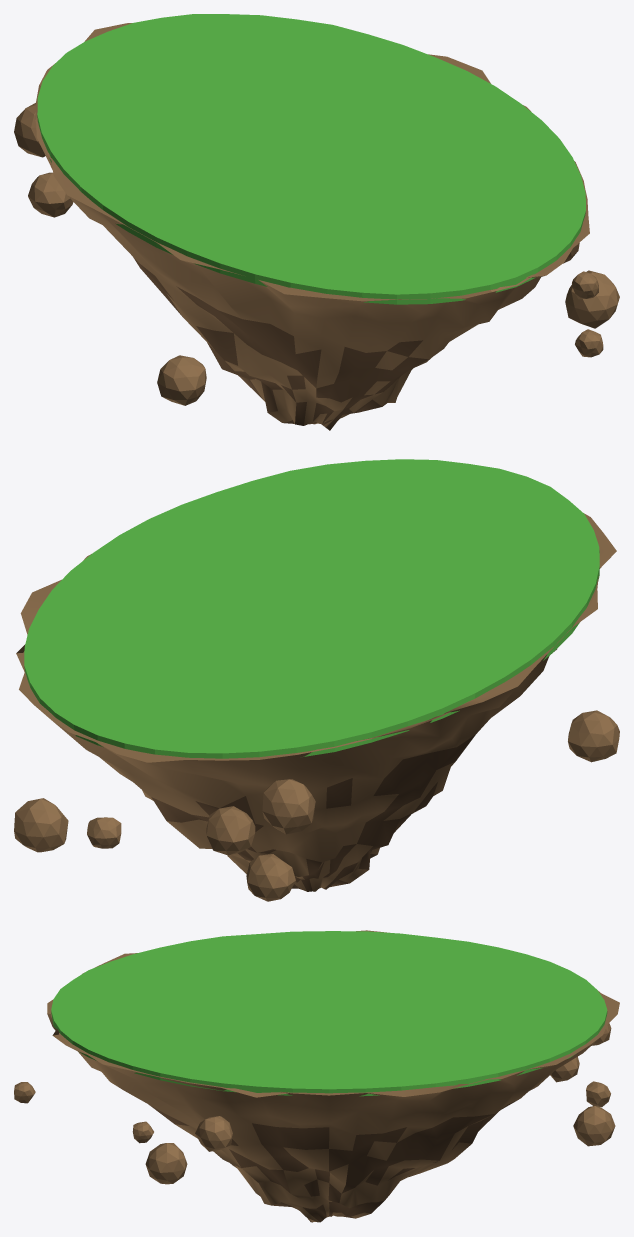
Rendered from island.glb.
The picture shows the model from 3 angles, top to bottom: view 1: azimuth 30°, elevation 25°; view 2: azimuth 150°, elevation 25°; view 3: azimuth 270°, elevation 25°; orthographic projection. The views are drawn at different scales.
Visible parts, largest first — view 1: IslandGrass, IslandRock, Floating.008, Floating.002, Floating.001, Floating.009, Floating.005, Floating.003; view 2: IslandGrass, IslandRock, Floating.009, Floating.004, Floating.008, Floating, Floating.001, Floating.006; view 3: IslandGrass, IslandRock, Floating.002, Floating.004, Floating.007, Floating.006, Floating.001.
Boxes of the visible parts, bbox=[...] form: IslandGrass: bbox=[37, 14, 585, 304]; IslandRock: bbox=[35, 23, 589, 430]; Floating.008: bbox=[157, 355, 206, 405]; Floating.002: bbox=[565, 270, 619, 328]; Floating.001: bbox=[28, 172, 73, 217]; Floating.009: bbox=[14, 103, 45, 157]; Floating.005: bbox=[575, 329, 603, 357]; Floating.003: bbox=[572, 271, 598, 299]; IslandGrass: bbox=[24, 459, 599, 758]; IslandRock: bbox=[16, 513, 616, 891]; Floating.009: bbox=[262, 779, 315, 834]; Floating.004: bbox=[14, 798, 68, 852]; Floating.008: bbox=[568, 710, 619, 762]; Floating: bbox=[206, 806, 255, 855]; Floating.001: bbox=[246, 854, 295, 901]; Floating.006: bbox=[87, 817, 121, 848]; IslandGrass: bbox=[51, 931, 607, 1096]; IslandRock: bbox=[47, 930, 619, 1222]; Floating.002: bbox=[145, 1143, 187, 1184]; Floating.004: bbox=[573, 1106, 615, 1146]; Floating.007: bbox=[195, 1116, 232, 1151]; Floating.006: bbox=[586, 1081, 610, 1107]; Floating.001: bbox=[550, 1056, 579, 1082].
Bounding box in the file's own units: 32.22 × 18.94 × 49.5.
